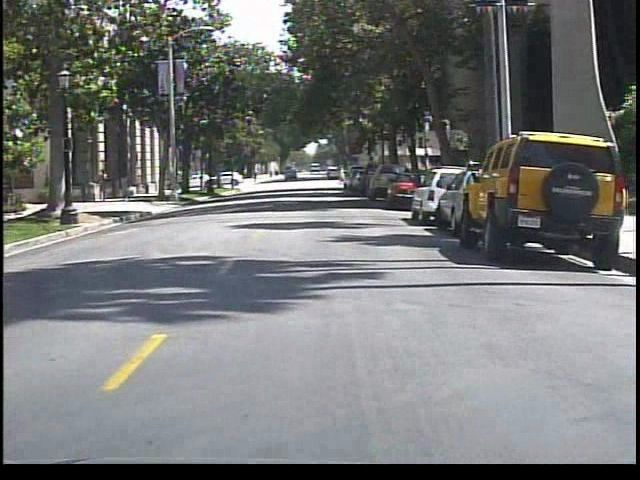person: (97, 168, 118, 206), (117, 170, 139, 204), (337, 165, 350, 189)
